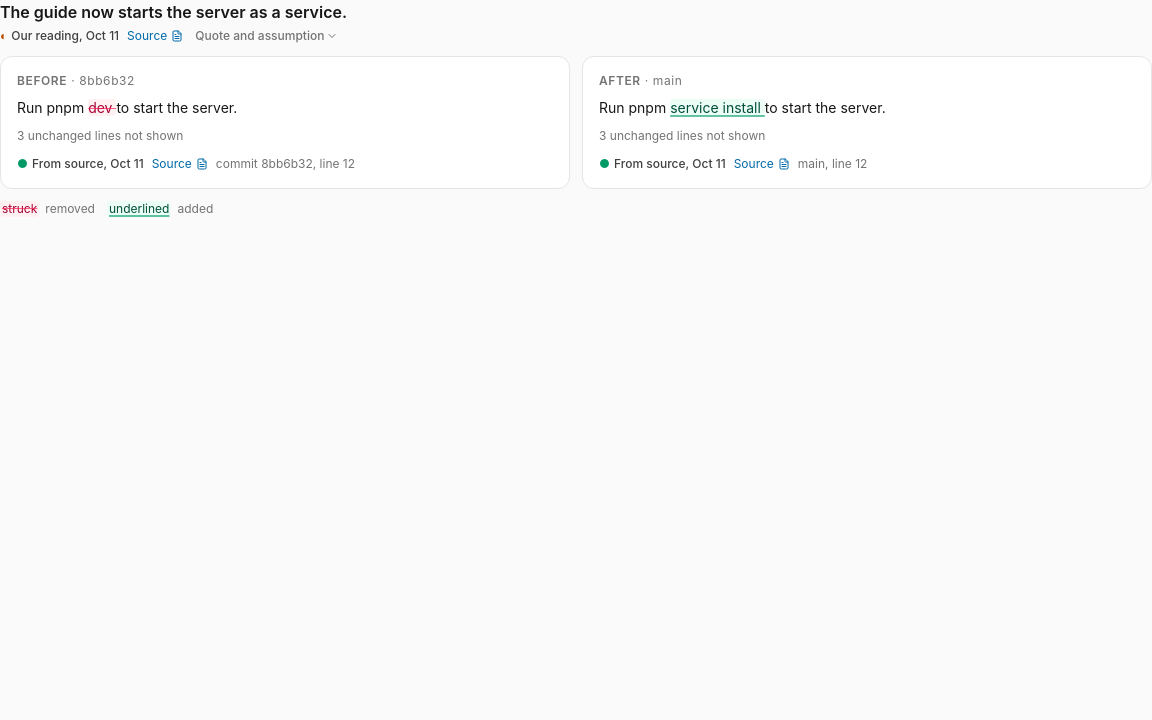
BeforeAfter › opens each pane's source and quote from its mark, with the locator beside it
This screenshot has width=1152, height=720.
Click the button "● From source, Oct 11" in the row of "commit 8bb6b32, line 12": (80, 164) [17,156,144,172]
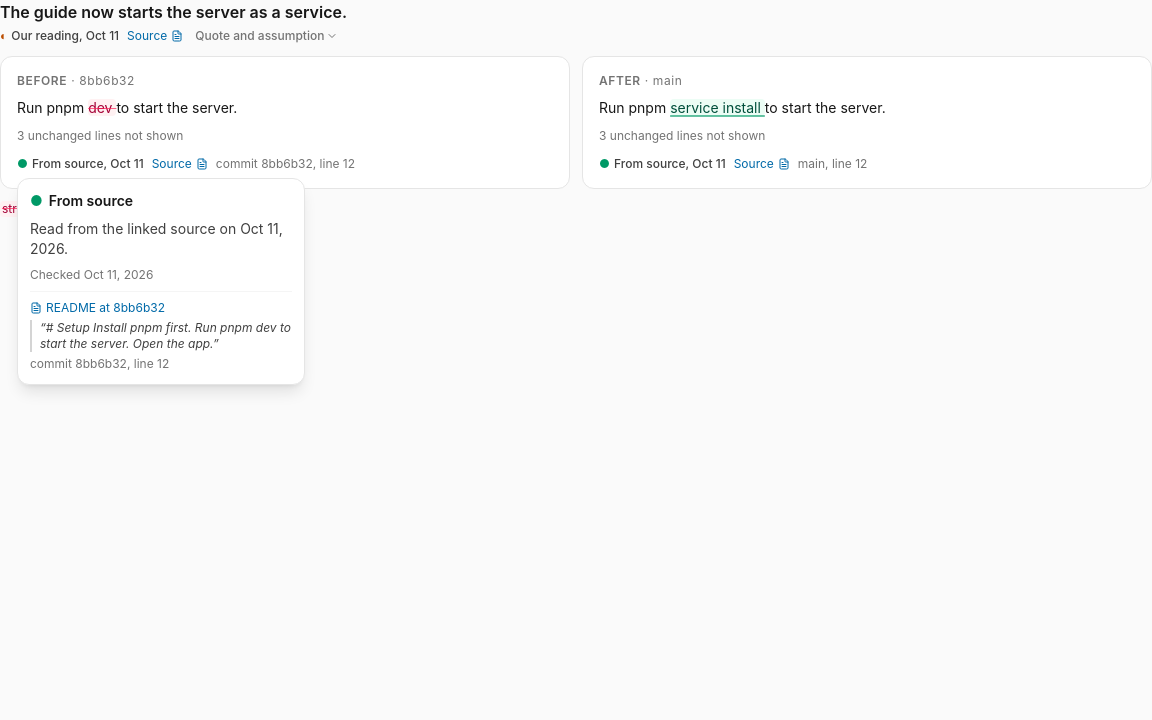
Now the dialog shows "README at 8bb6b32", box [30,300,165,316]
Now the dialog shows "Run pnpm dev to start the server.", box [40,320,291,351]
Press Escape in the dialog, box [17,178,305,385]
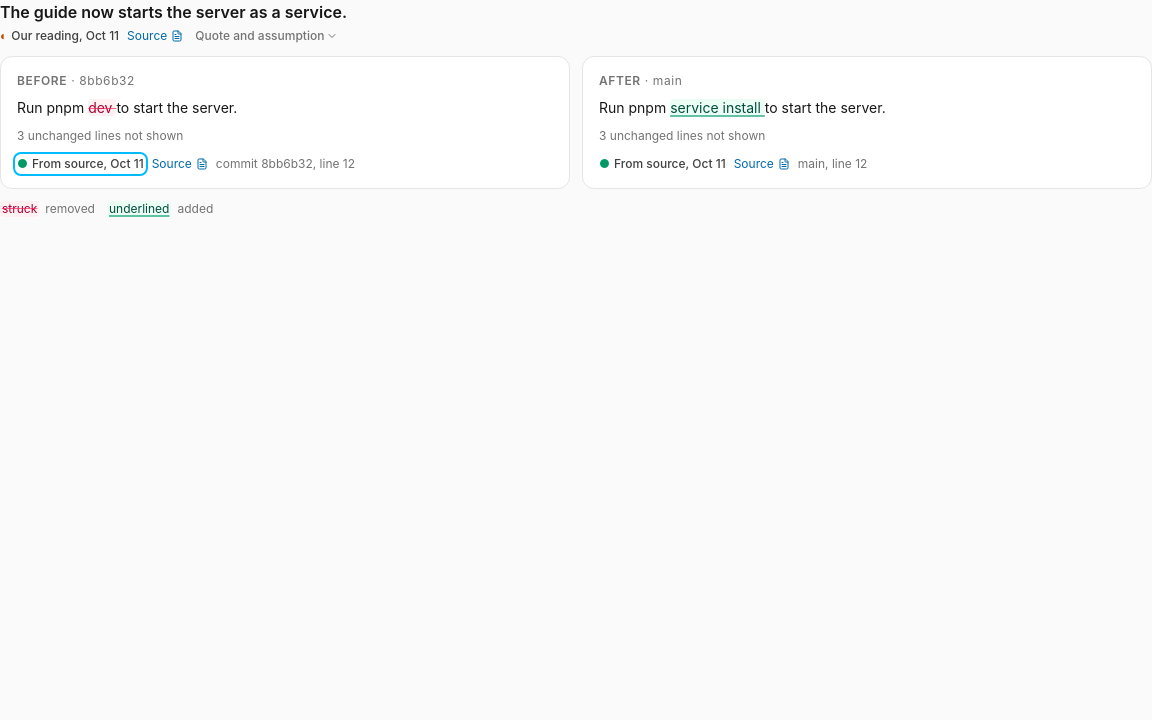
Now the dialog is gone
Click the button "● From source, Oct 11" in the row of "main, line 12": (662, 164) [599,156,726,172]
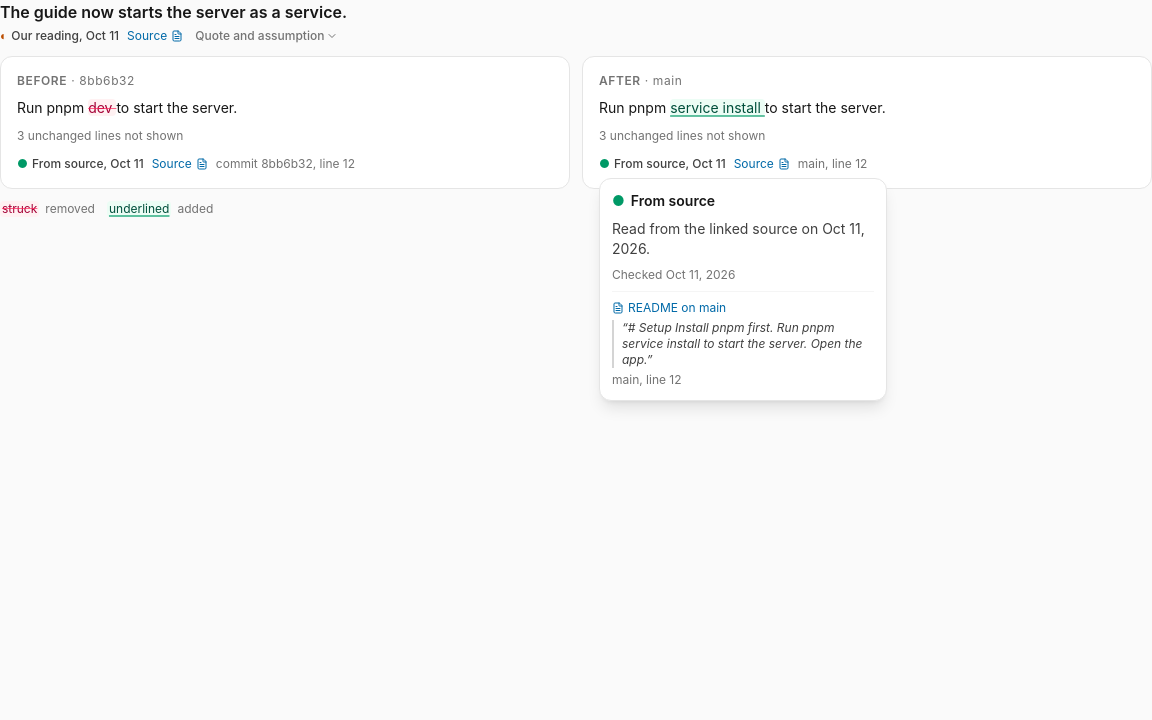
Now the dialog shows "README on main", box [612,300,726,316]
